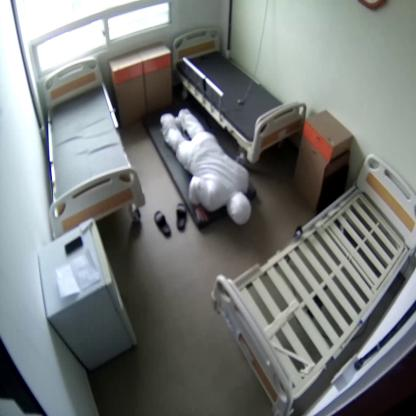Person: (160, 110, 252, 224)
